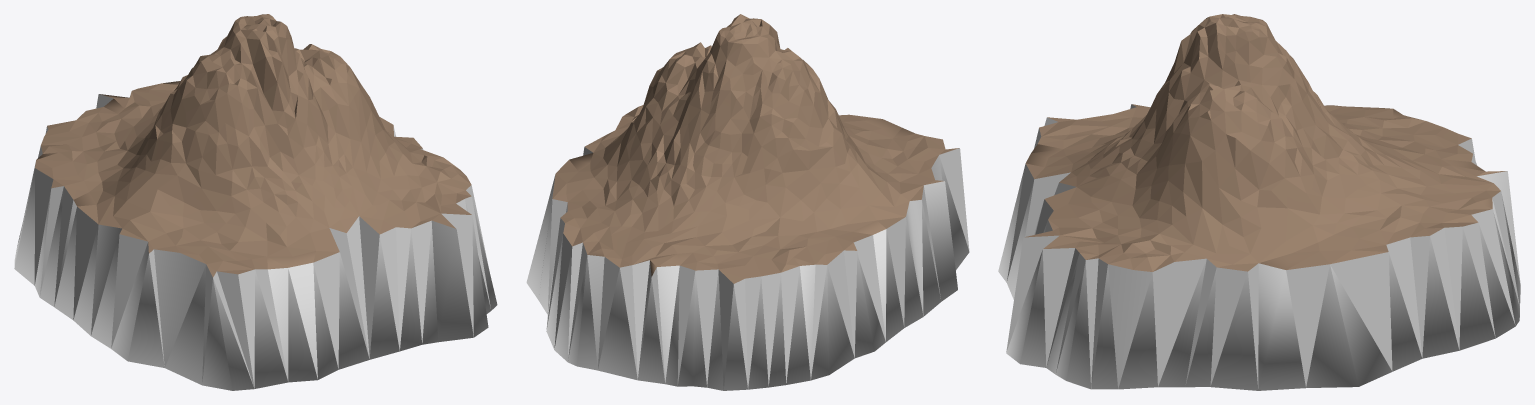
Rendered from Mountain_07.fbx.
3 renders of one model, left to right at view 1: azimuth 30°, elevation 25°; view 2: azimuth 150°, elevation 25°; view 3: azimuth 270°, elevation 25°, orthographic. The views are drawn at different scales.
Parts seen in each view (by area): view 1: Mountain_07; view 2: Mountain_07; view 3: Mountain_07.
Part boxes in pixels (box(x1,y1,x2,y2)): Mountain_07: box(14, 14, 497, 390); Mountain_07: box(526, 14, 969, 390); Mountain_07: box(998, 14, 1520, 390).
Size of the model in its own units: 11968 by 8869 by 14656.
